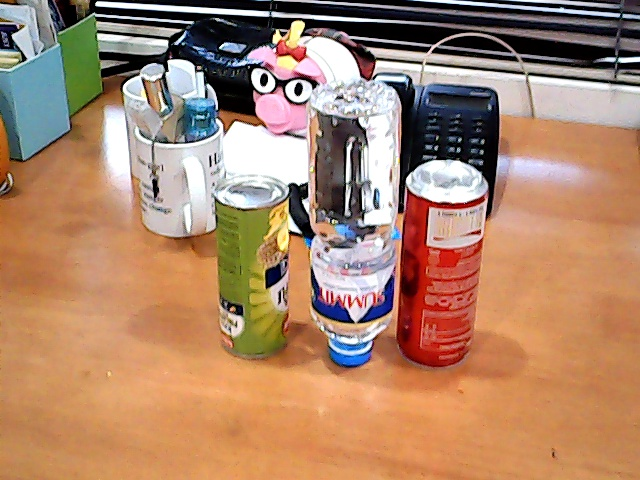Cola: (396, 140, 498, 378)
Pine Juice: (209, 163, 292, 366)
Summit Water: (304, 69, 406, 385)
